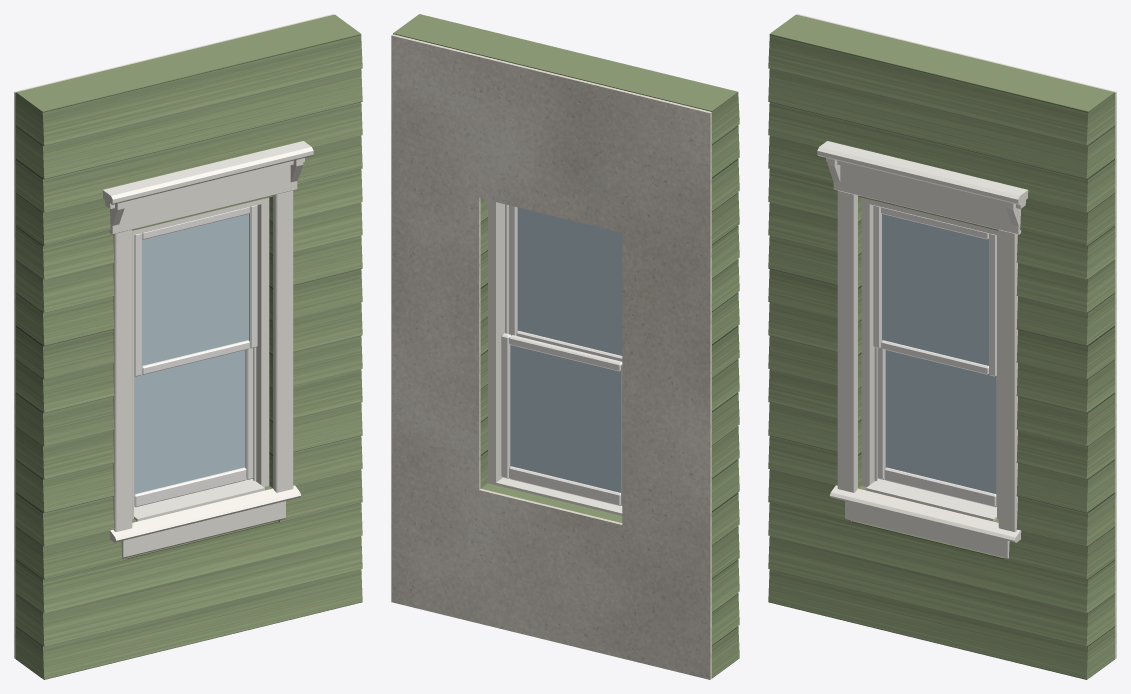
The model's file is f_u_win_b.glb.
3 renders of one model, left to right at view 1: azimuth 30°, elevation 25°; view 2: azimuth 150°, elevation 25°; view 3: azimuth 330°, elevation 25°, orthographic.
Parts seen in each view (by area): view 1: f_u_win_b_siding_b, f_u_win_b_trim, f_u_win_b_glass, f_u_win_b_sash, f_u_win_b_frame, f_u_win_b_plaster; view 2: f_u_win_b_plaster, f_u_win_b_siding_b, f_u_win_b_glass, f_u_win_b_sash, f_u_win_b_frame, f_u_win_b_trim; view 3: f_u_win_b_siding_b, f_u_win_b_trim, f_u_win_b_glass, f_u_win_b_sash, f_u_win_b_frame, f_u_win_b_plaster.
Boxes of the visible parts, x1=… form: f_u_win_b_siding_b: x1=16, y1=14, x2=362, y2=679; f_u_win_b_trim: x1=102, y1=141, x2=313, y2=558; f_u_win_b_glass: x1=134, y1=214, x2=248, y2=493; f_u_win_b_sash: x1=134, y1=205, x2=257, y2=507; f_u_win_b_frame: x1=132, y1=197, x2=269, y2=519; f_u_win_b_plaster: x1=14, y1=14, x2=333, y2=658; f_u_win_b_plaster: x1=391, y1=34, x2=711, y2=679; f_u_win_b_siding_b: x1=393, y1=14, x2=739, y2=678; f_u_win_b_glass: x1=510, y1=207, x2=622, y2=492; f_u_win_b_sash: x1=501, y1=205, x2=622, y2=505; f_u_win_b_frame: x1=488, y1=200, x2=508, y2=484; f_u_win_b_trim: x1=496, y1=477, x2=622, y2=515; f_u_win_b_siding_b: x1=768, y1=14, x2=1114, y2=679; f_u_win_b_trim: x1=817, y1=141, x2=1028, y2=558; f_u_win_b_glass: x1=882, y1=214, x2=996, y2=493; f_u_win_b_sash: x1=873, y1=205, x2=996, y2=507; f_u_win_b_frame: x1=861, y1=197, x2=998, y2=519; f_u_win_b_plaster: x1=797, y1=14, x2=1116, y2=658.
Size of the model in its own units: 2 by 3.4 by 0.43.
Materials: 6 (2 with a texture image).
